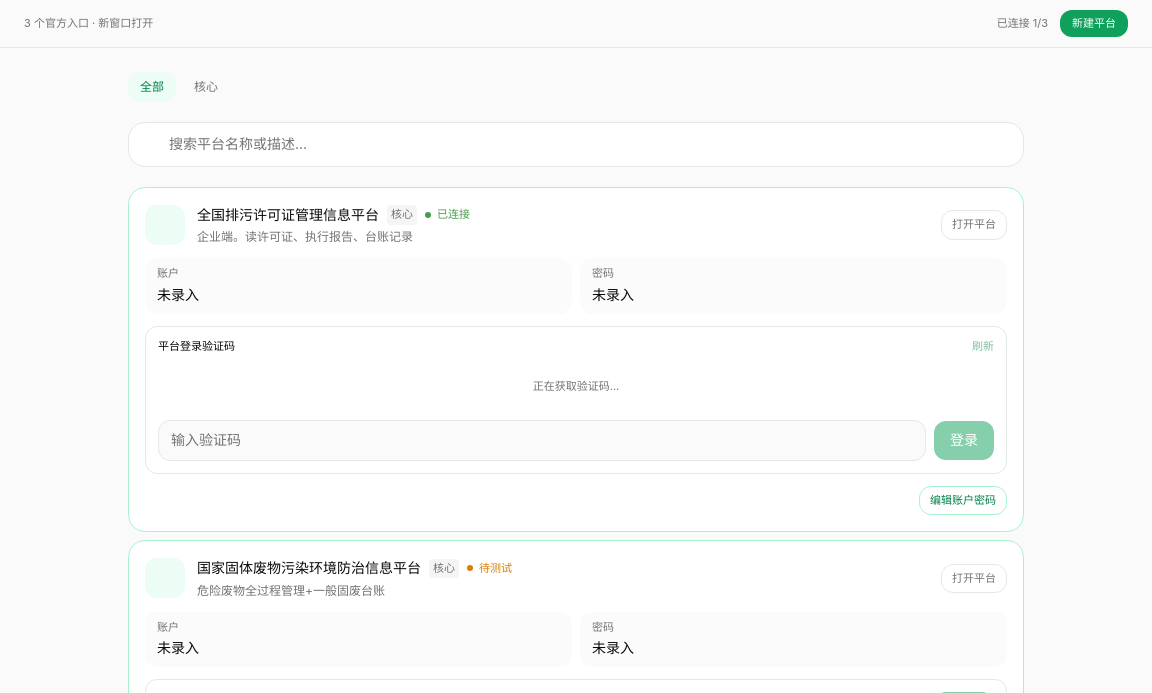
Test case: LinksView › filters links by search keyword (name match)
This screenshot has width=1152, height=693.
In the field with placeholder "搜索平台名称或描述...": (576, 145) [128,122,1024,167], type "排污"
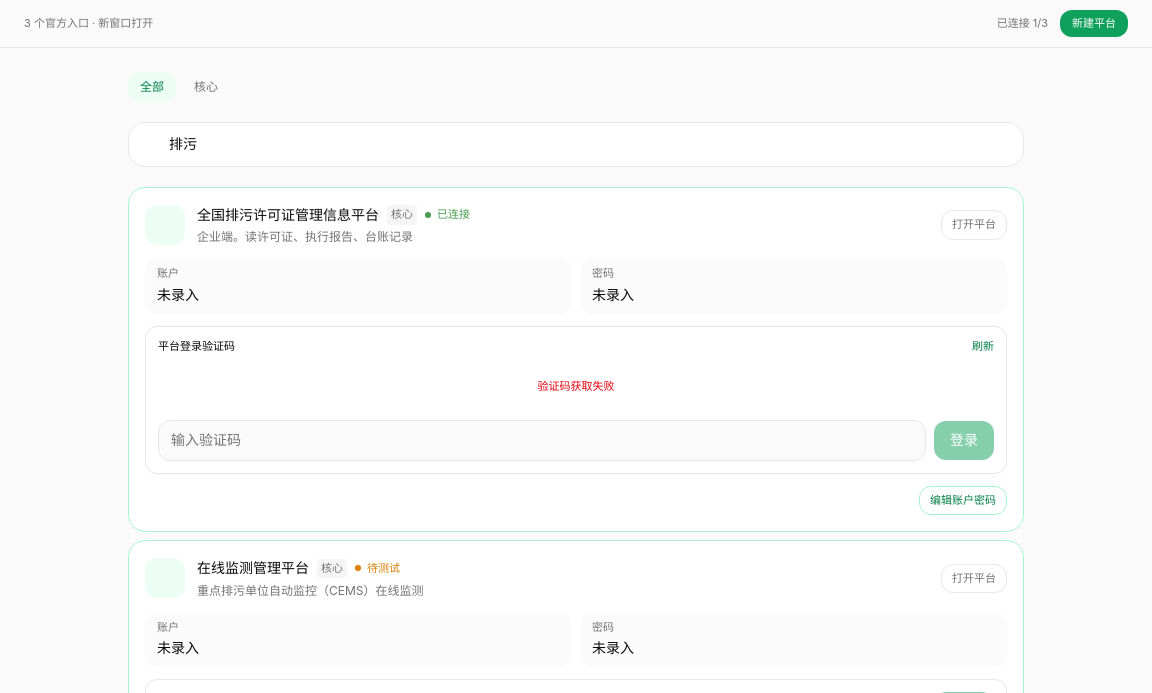
Check: the link titled "全国排污许可证管理信息平台" in the row of "企业端。读许可证、执行报告、台账记录" is shown, box [941,210,1007,240]
Check: the text titled "国家固体废物污染环境防治信息平台" is gone
